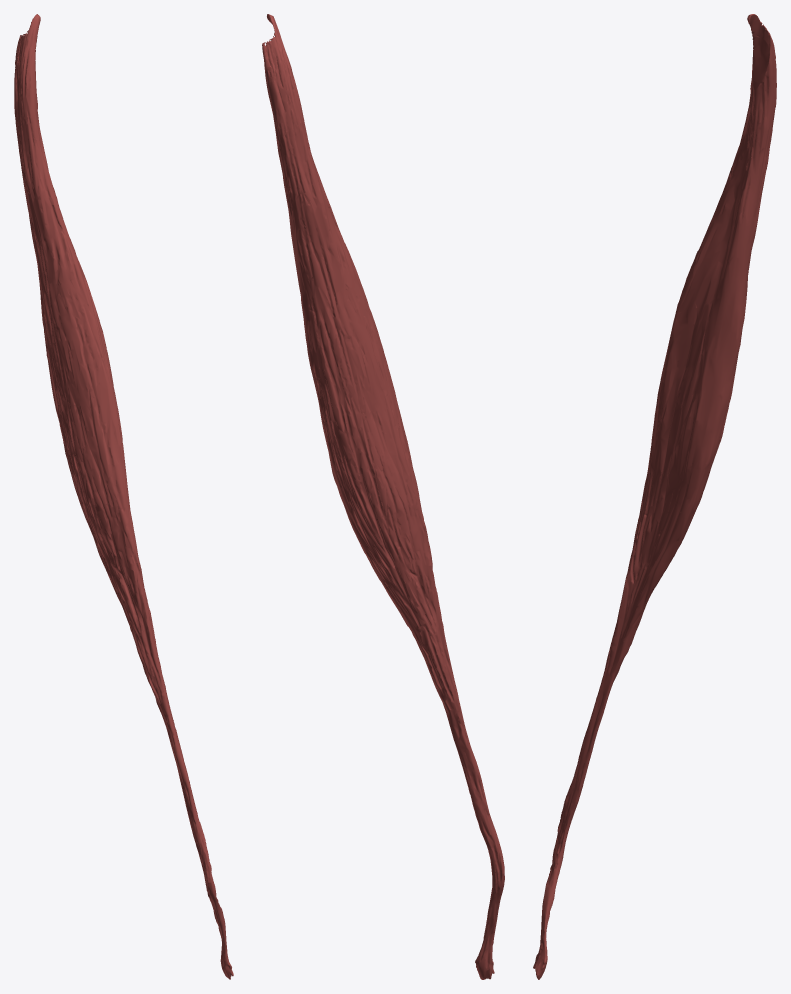
Rendered from FMA38498.glb.
3 views of the same model, side by side, from view 1: azimuth 90°, elevation 25°; view 2: azimuth 150°, elevation 25°; view 3: azimuth 270°, elevation 25° (orthographic). The views are drawn at different scales.
Parts seen in each view (by area): view 1: FMA38498; view 2: FMA38498; view 3: FMA38498.
Part boxes in pixels (left/top/right/bottom): FMA38498: left=14, top=14, right=233, bottom=979; FMA38498: left=262, top=14, right=504, bottom=979; FMA38498: left=533, top=14, right=776, bottom=979.
Bounding box in the file's own units: 0.0444 × 0.3028 × 0.0657.
